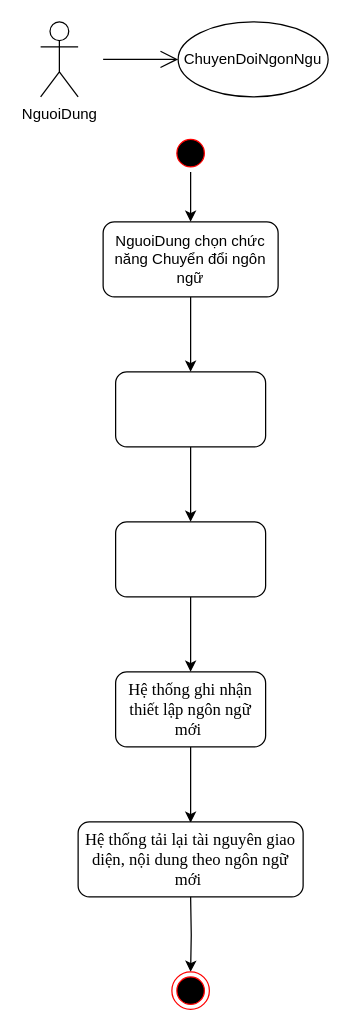
This 350x1031 diagram has some shape labels left out. Each missing label, with the box of its shape:
Hệ Thống hiển thị danh sách ngôn ngữ được hỗ trợ: (114, 371, 266, 447)
Người dùng chọn ngôn ngữ mong muốn: (114, 521, 266, 597)
